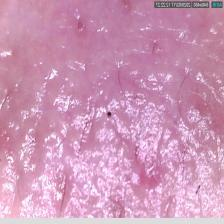Oily: (1, 13, 224, 213)
